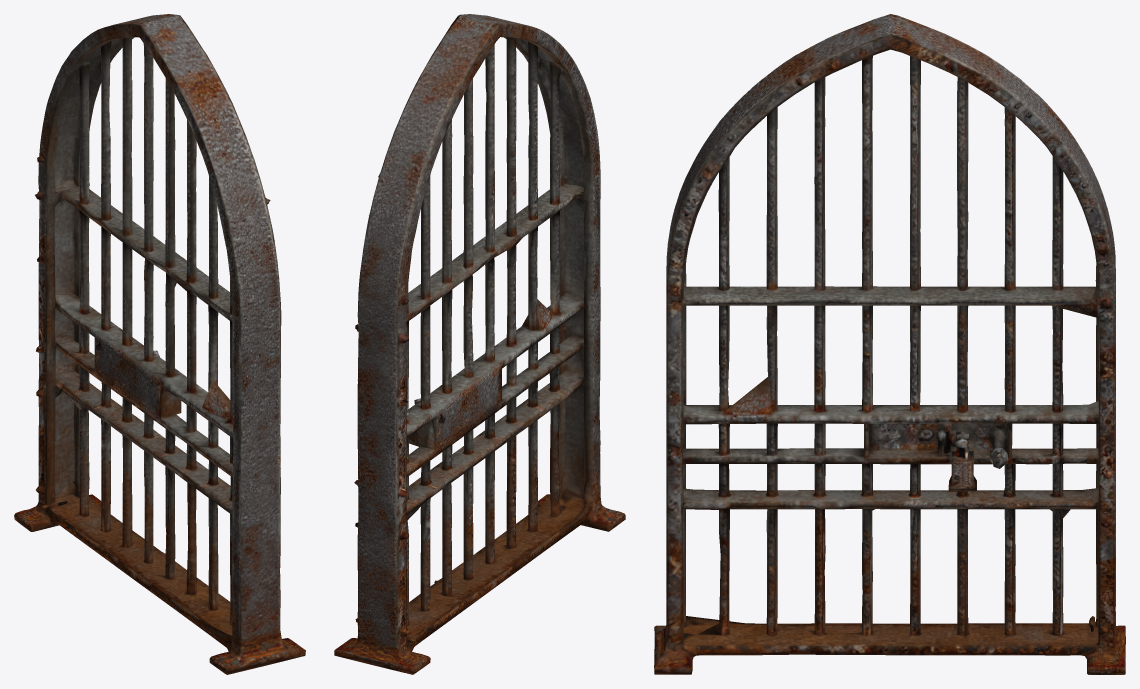
The model's file is jail_gate.glb.
The picture shows the model from 3 angles, left to right: view 1: azimuth 30°, elevation 25°; view 2: azimuth 150°, elevation 25°; view 3: azimuth 270°, elevation 25°; orthographic projection. The views are drawn at different scales.
Parts seen in each view (by area): view 1: tripo_node_912bc7b2-42bb-4612-9b57-e38bd866bd06; view 2: tripo_node_912bc7b2-42bb-4612-9b57-e38bd866bd06; view 3: tripo_node_912bc7b2-42bb-4612-9b57-e38bd866bd06.
Part boxes in pixels (bbox=[...]): tripo_node_912bc7b2-42bb-4612-9b57-e38bd866bd06: bbox=[14, 14, 305, 674]; tripo_node_912bc7b2-42bb-4612-9b57-e38bd866bd06: bbox=[334, 14, 625, 674]; tripo_node_912bc7b2-42bb-4612-9b57-e38bd866bd06: bbox=[654, 14, 1125, 674].
Size of the model in its own units: 0.1472 by 1 by 0.6786.
1 material, 1 textured.
